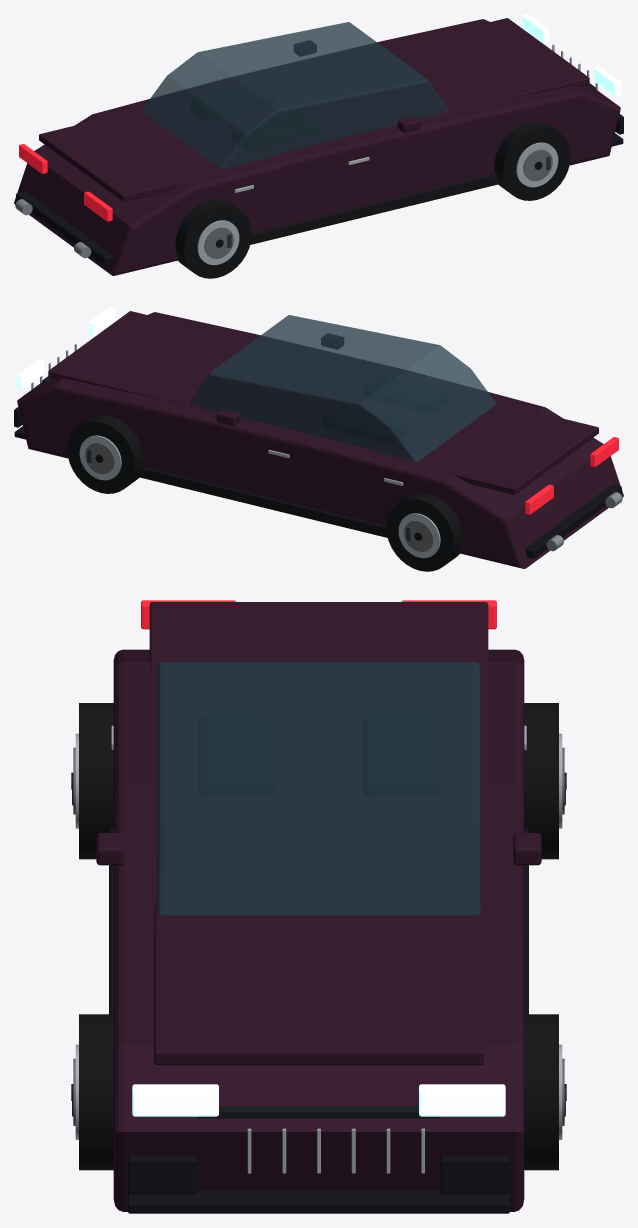
File: rr_la_rose_noire_droptail.glb
3 views of the same model, one above another, from view 1: azimuth 30°, elevation 25°; view 2: azimuth 150°, elevation 25°; view 3: azimuth 270°, elevation 25° (orthographic). The views are drawn at different scales.
Parts seen in each view (by area): view 1: sculpted_body, glasshouse, hood_center, rear_deck, rear_right_wheel_tire, front_right_wheel_tire, side_skirt_1, seat_-1, seat_1, rear_diffuser, front_right_wheel_rim, rear_right_wheel_rim (+6 smaller); view 2: sculpted_body, glasshouse, hood_center, rear_deck, rear_left_wheel_tire, front_left_wheel_tire, side_skirt_-1, seat_1, seat_-1, rear_diffuser, front_left_wheel_rim, rear_left_wheel_rim (+6 smaller); view 3: sculpted_body, glasshouse, hood_center, rear_deck, front_splitter, seat_-1, seat_1, front_left_wheel_tire, front_right_wheel_tire, rear_left_wheel_tire, rear_right_wheel_tire, headlight_left (+6 smaller).
Part boxes in pixels (bbox=[...]): sculpted_body: bbox=[14, 19, 620, 275]; glasshouse: bbox=[141, 22, 448, 169]; hood_center: bbox=[355, 18, 589, 115]; rear_deck: bbox=[39, 114, 203, 201]; rear_right_wheel_tire: bbox=[175, 199, 251, 278]; front_right_wheel_tire: bbox=[494, 122, 570, 200]; side_skirt_1: bbox=[250, 174, 499, 244]; seat_-1: bbox=[190, 83, 273, 120]; seat_1: bbox=[231, 113, 314, 150]; rear_diffuser: bbox=[16, 191, 112, 265]; front_right_wheel_rim: bbox=[516, 142, 558, 187]; rear_right_wheel_rim: bbox=[197, 220, 239, 265]; sculpted_body: bbox=[17, 312, 623, 568]; glasshouse: bbox=[189, 315, 496, 462]; hood_center: bbox=[48, 311, 282, 408]; rear_deck: bbox=[434, 407, 598, 494]; rear_left_wheel_tire: bbox=[386, 492, 462, 571]; front_left_wheel_tire: bbox=[67, 415, 143, 493]; side_skirt_-1: bbox=[138, 467, 387, 537]; seat_1: bbox=[364, 376, 447, 413]; seat_-1: bbox=[323, 406, 406, 443]; rear_diffuser: bbox=[525, 484, 621, 558]; front_left_wheel_rim: bbox=[79, 435, 121, 480]; rear_left_wheel_rim: bbox=[398, 513, 440, 558]; sculpted_body: bbox=[113, 649, 524, 1211]; glasshouse: bbox=[157, 662, 480, 915]; hood_center: bbox=[154, 902, 483, 1065]; rear_deck: bbox=[149, 602, 488, 680]; front_splitter: bbox=[128, 1191, 509, 1213]; seat_-1: bbox=[363, 713, 439, 796]; seat_1: bbox=[198, 713, 274, 796]; front_left_wheel_tire: bbox=[524, 1014, 558, 1170]; front_right_wheel_tire: bbox=[79, 1014, 113, 1170]; rear_left_wheel_tire: bbox=[524, 703, 558, 859]; rear_right_wheel_tire: bbox=[79, 703, 113, 859]; headlight_left: bbox=[419, 1084, 505, 1116].
Size of the model in its own units: 5.66 by 1.36 by 2.28.
